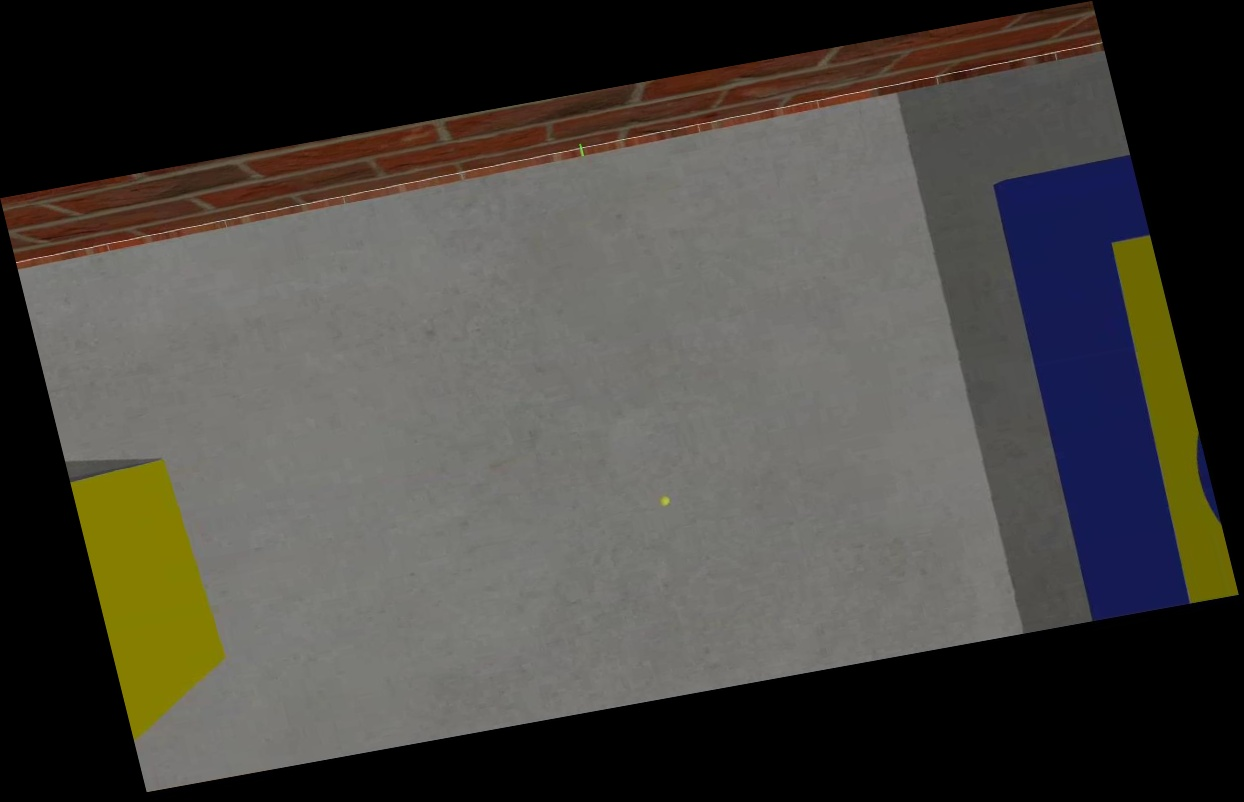large_base: (982, 149, 1242, 622)
